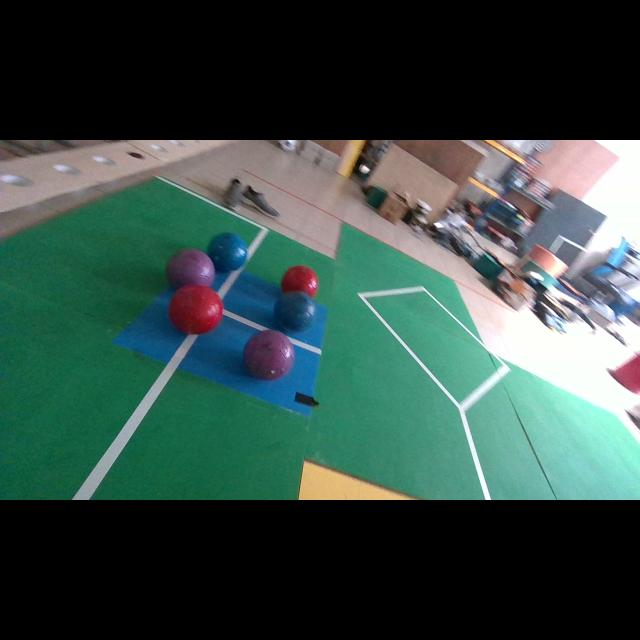B: (274, 291, 316, 332), (208, 232, 248, 272)
P: (244, 331, 295, 380), (166, 249, 215, 288)
R: (169, 284, 224, 334), (281, 265, 319, 298)
